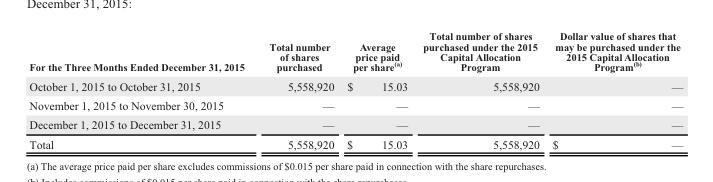table: (28, 28, 682, 151)
table column: (28, 28, 256, 151), (545, 28, 682, 151), (414, 28, 545, 151), (256, 28, 339, 151), (339, 28, 414, 151)
table column header: (28, 28, 682, 75)
table row: (28, 28, 682, 75), (28, 75, 682, 95), (28, 95, 682, 114), (28, 114, 682, 133), (28, 133, 682, 151)
